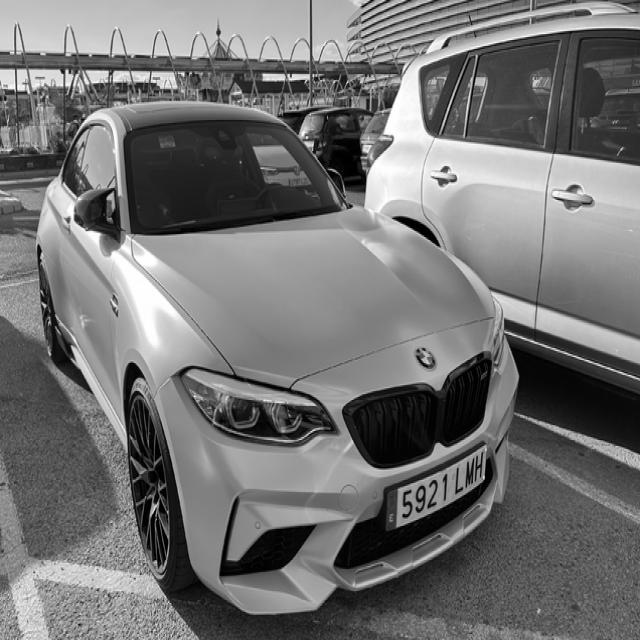License-Plate: (384, 441, 489, 538)
